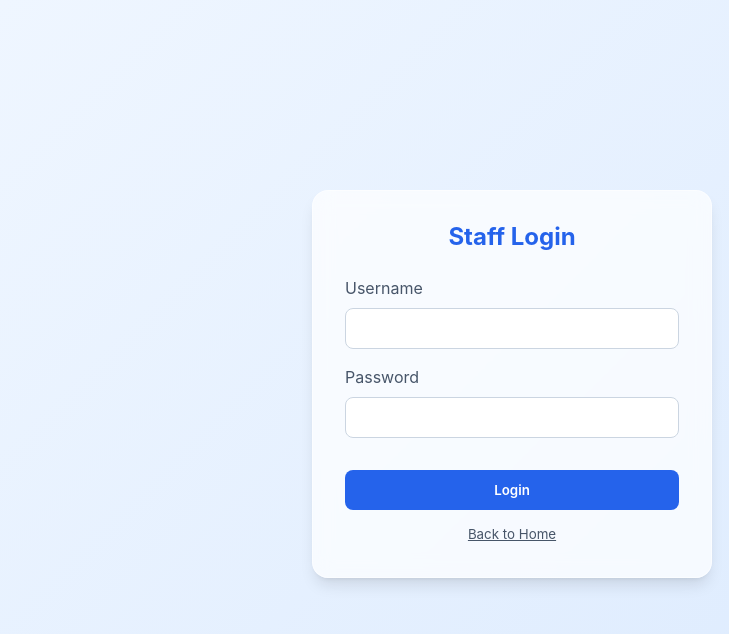
StaffLogin Component › displays error message on failed login
Step 1. Type "Wrong" into the field labelled "Username" → coordinates (512, 328), box left=345, top=308, right=679, bottom=349
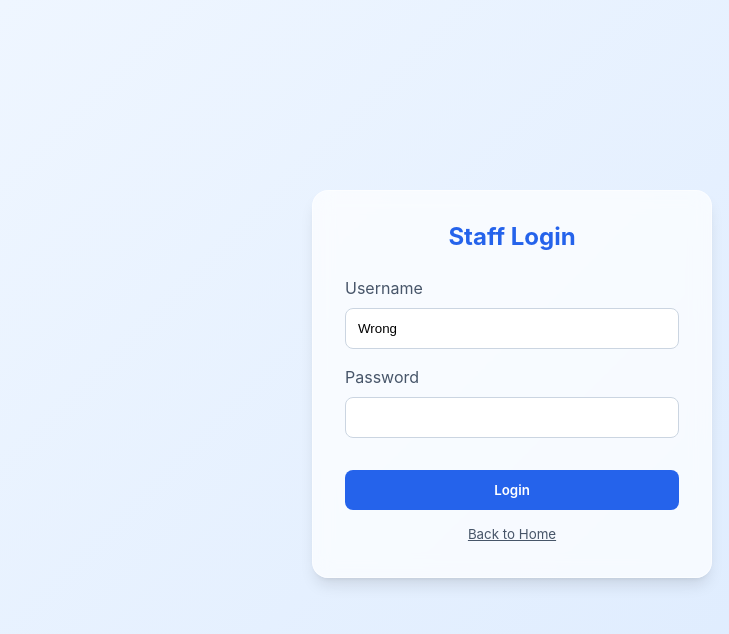
Step 2. Type "Wrong" into the password field labelled "Password" → coordinates (512, 417), box left=345, top=397, right=679, bottom=438
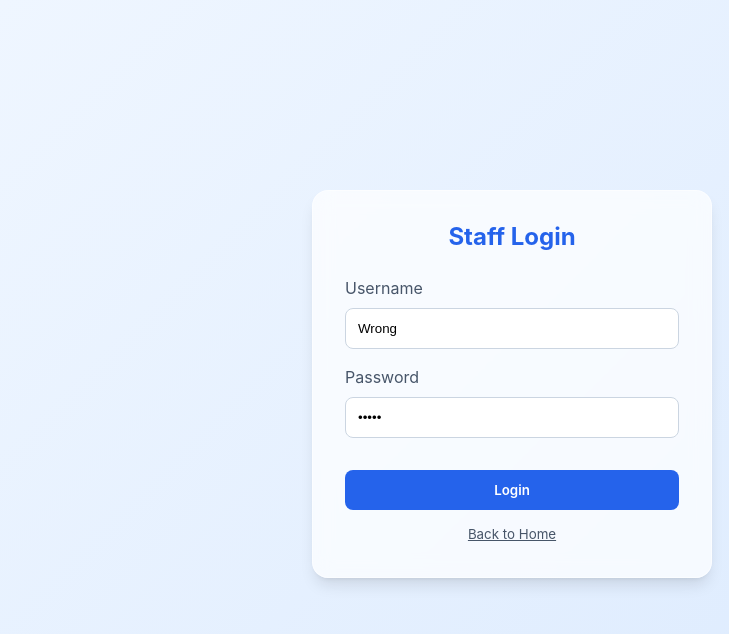
Step 3. Click the button "Login" → coordinates (512, 490), box left=345, top=470, right=679, bottom=510
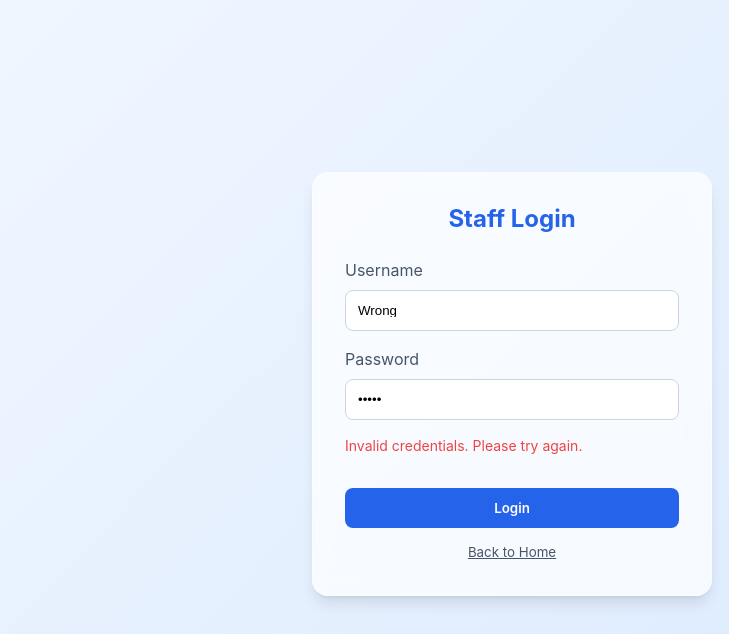
Expected: the text "Invalid credentials. Please try again." is shown, left=345, top=437, right=582, bottom=454
